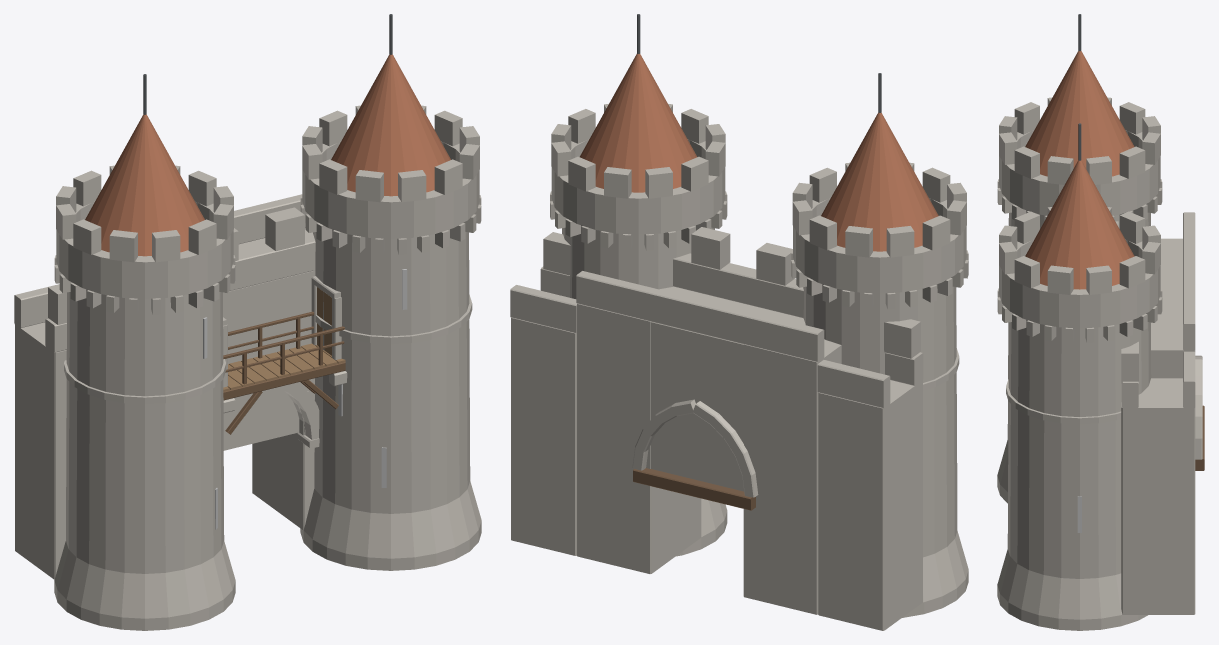
The model's file is gatehouse.glb.
3 renders of one model, left to right at view 1: azimuth 30°, elevation 25°; view 2: azimuth 150°, elevation 25°; view 3: azimuth 270°, elevation 25°, orthographic. The views are drawn at different scales.
Visible parts, largest first — view 1: gatehouse.stonewall, gatehouse.rooftile, gatehouse.oak, gatehouse.planks, gatehouse.soot; view 2: gatehouse.stonewall, gatehouse.rooftile, gatehouse.oak; view 3: gatehouse.stonewall, gatehouse.rooftile.
Boxes of the visible parts, bbox=[...] form: gatehouse.stonewall: bbox=[14, 105, 481, 630]; gatehouse.rooftile: bbox=[85, 54, 450, 256]; gatehouse.oak: bbox=[223, 311, 345, 434]; gatehouse.planks: bbox=[223, 287, 345, 391]; gatehouse.soot: bbox=[203, 269, 407, 529]; gatehouse.stonewall: bbox=[510, 104, 968, 630]; gatehouse.rooftile: bbox=[580, 54, 938, 251]; gatehouse.oak: bbox=[633, 468, 755, 510]; gatehouse.stonewall: bbox=[997, 97, 1202, 630]; gatehouse.rooftile: bbox=[1025, 51, 1134, 289].
Size of the model in its own units: 13.76 by 16.9 by 6.73.
